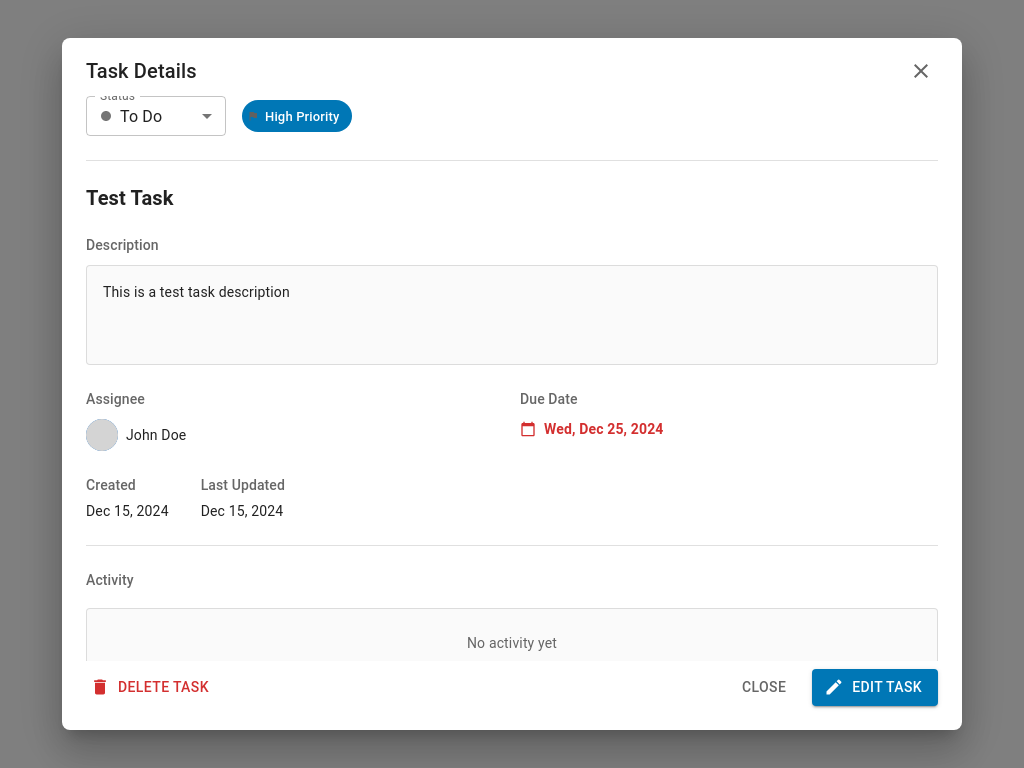
Scenario: TaskDetailModal › Edit Mode › validates required fields in edit mode
// Enter edit mode
Click the button "Edit Task".
click(875, 687)  # box [812,669,938,706]
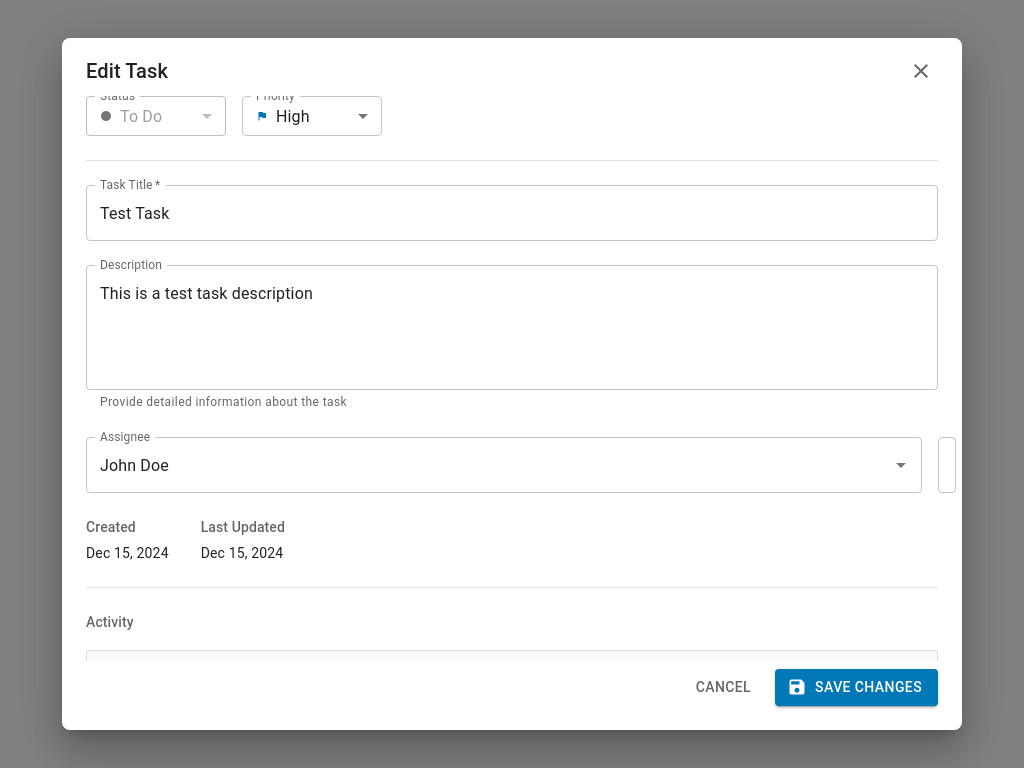
// Clear the title
Clear the field showing "Test Task" at point(512, 213), box [86,185,938,241]
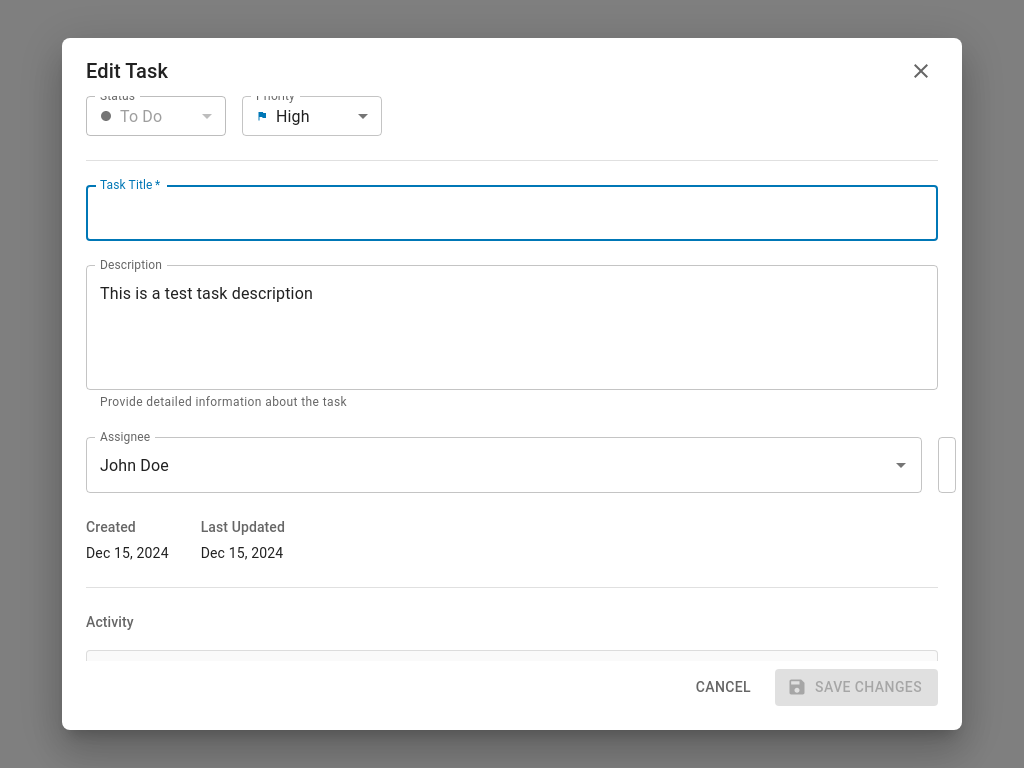
Check: the button "Save Changes" is disabled, box [775,669,938,706]
